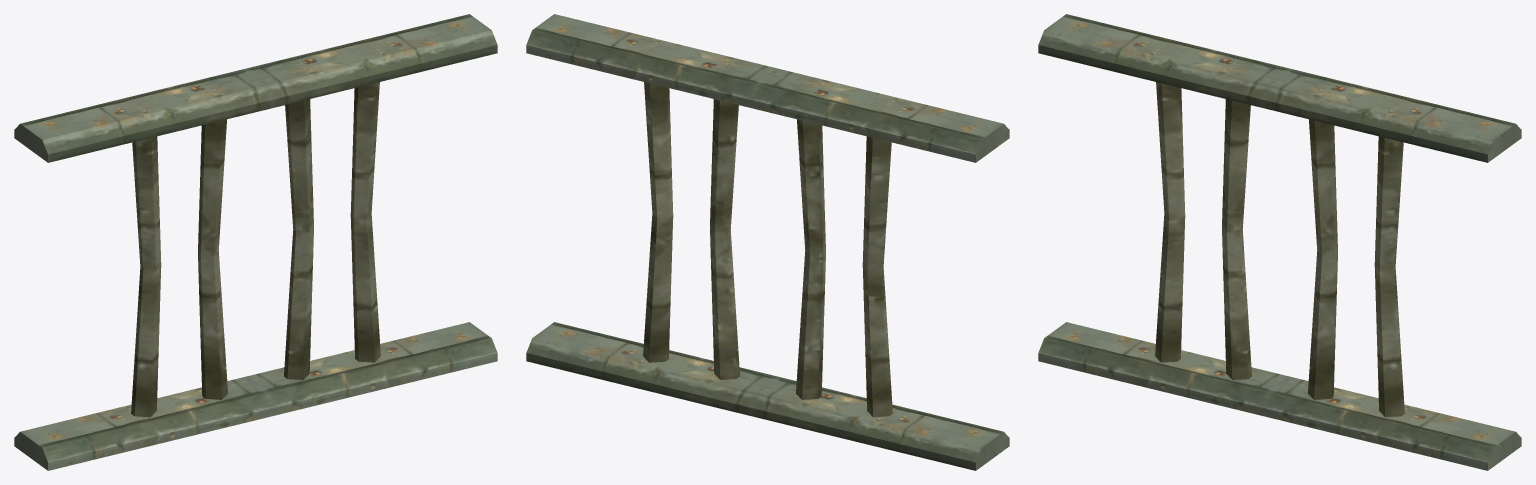
Rendered from fence-04.fbx.
The picture shows the model from 3 angles, left to right: view 1: azimuth 30°, elevation 25°; view 2: azimuth 150°, elevation 25°; view 3: azimuth 330°, elevation 25°; orthographic projection.
Parts seen in each view (by area): view 1: Cube.178; view 2: Cube.178; view 3: Cube.178.
Boxes of the visible parts, x1,y1,x2,y2 form: Cube.178: (14,14,497,470); Cube.178: (526,14,1009,470); Cube.178: (1038,14,1521,470).
Size of the model in its own units: 1 by 0.6948 by 0.13.
